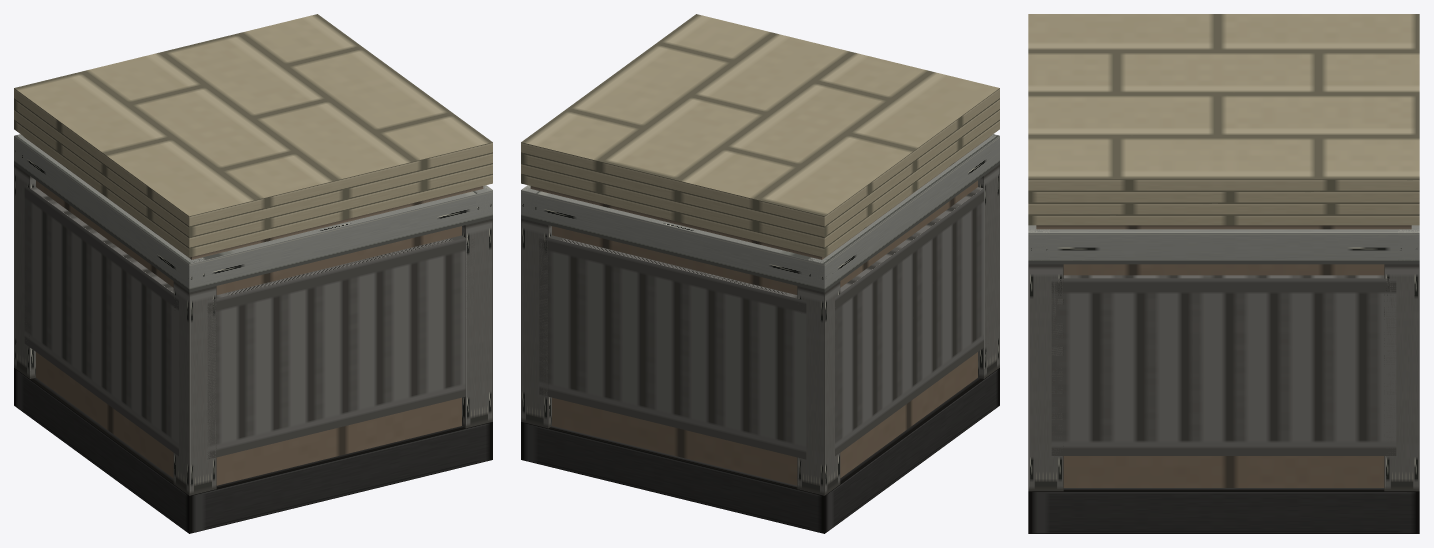
Rendered from heating_plate.obj.
3 renders of one model, left to right at view 1: azimuth 30°, elevation 25°; view 2: azimuth 150°, elevation 25°; view 3: azimuth 270°, elevation 25°, orthographic. The views are drawn at different scales.
Parts seen in each view (by area): view 1: plate_jacket, heat_contact, plate_frame, plate_base, plate_roof_edges, plate_core; view 2: plate_jacket, heat_contact, plate_frame, plate_base, plate_roof_edges, plate_core; view 3: heat_contact, plate_jacket, plate_frame, plate_roof_edges, plate_base, plate_core.
Boxes of the visible parts, x1,y1,x2,y2 form: plate_jacket: (24, 185, 474, 459); heat_contact: (14, 14, 492, 216); plate_frame: (14, 134, 492, 495); plate_base: (14, 368, 492, 533); plate_roof_edges: (14, 88, 492, 257); plate_core: (23, 136, 483, 485); plate_jacket: (539, 187, 983, 459); heat_contact: (521, 14, 999, 216); plate_frame: (521, 134, 999, 495); plate_base: (521, 368, 999, 533); plate_roof_edges: (521, 88, 999, 257); plate_core: (530, 136, 990, 485); heat_contact: (1028, 14, 1419, 179); plate_jacket: (1051, 275, 1396, 455); plate_frame: (1028, 225, 1419, 491); plate_roof_edges: (1028, 179, 1419, 225); plate_base: (1028, 488, 1419, 533); plate_core: (1036, 225, 1411, 487).
Size of the model in its own units: 1 by 1 by 1.
Materials: 1 (1 with a texture image).
